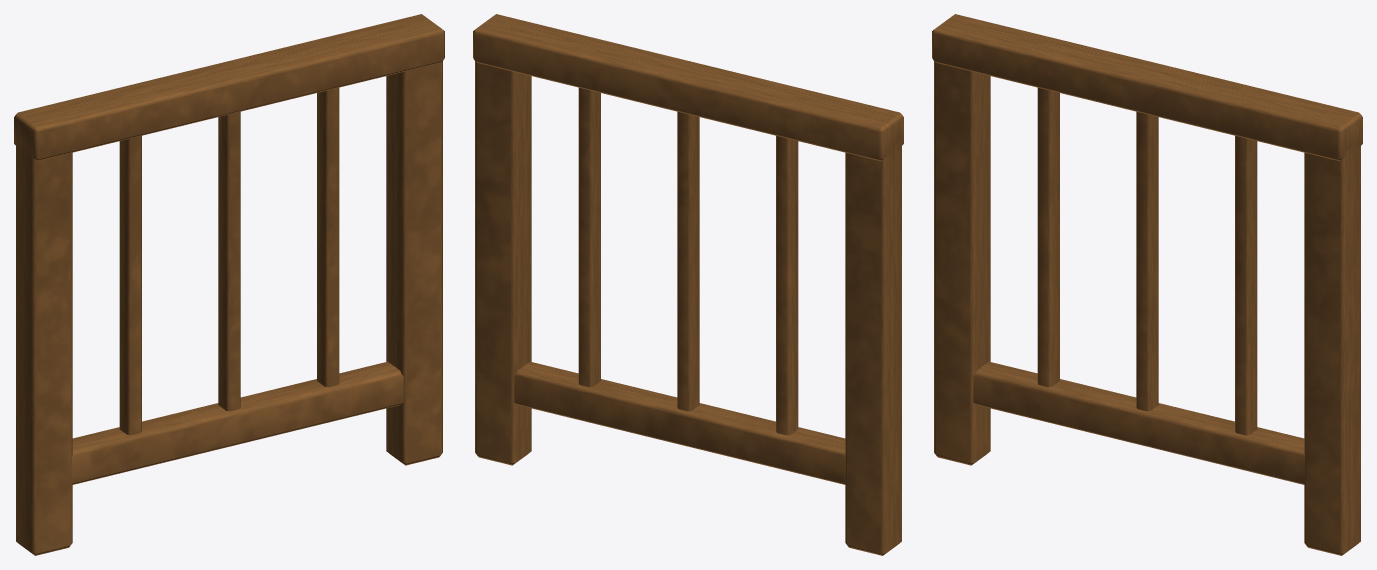
The model's file is Furn_Railing.fbx.
3 renders of one model, left to right at view 1: azimuth 30°, elevation 25°; view 2: azimuth 150°, elevation 25°; view 3: azimuth 330°, elevation 25°, orthographic.
Visible parts, largest first — view 1: Furn_Railing_Mesh; view 2: Furn_Railing_Mesh; view 3: Furn_Railing_Mesh.
Part boxes in pixels (<box>): Furn_Railing_Mesh: <box>14,14,444,555</box>; Furn_Railing_Mesh: <box>473,14,903,555</box>; Furn_Railing_Mesh: <box>932,14,1362,555</box>.
Bounding box in the file's own units: 1 × 1 × 0.1.
